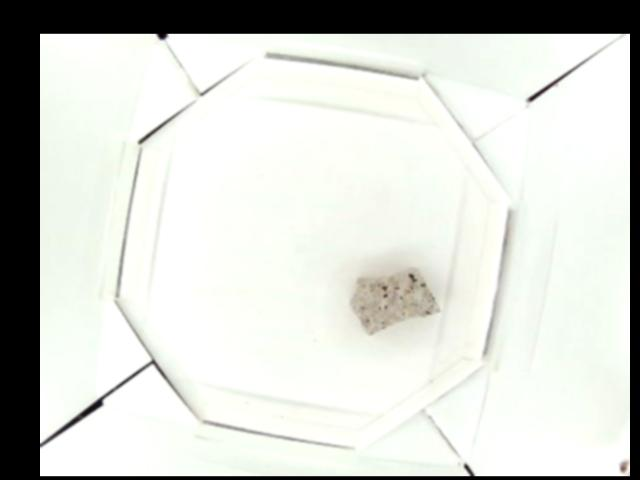China: (346, 266, 443, 334)
